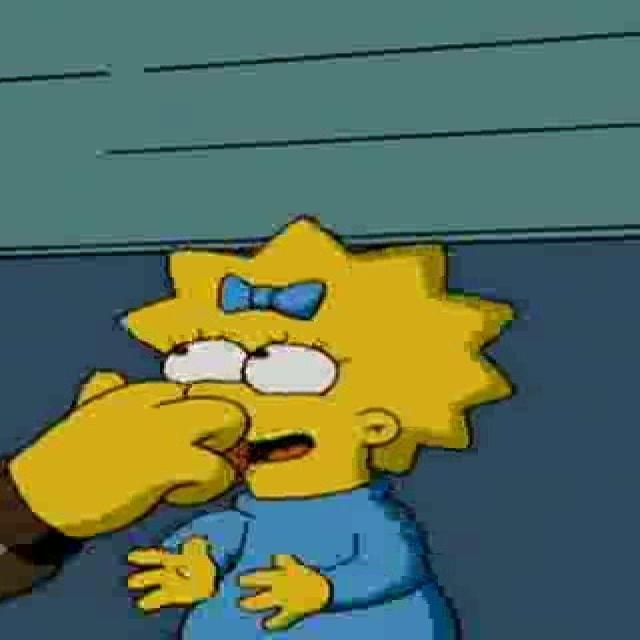Maggie Simpson: (112, 214, 524, 501)
